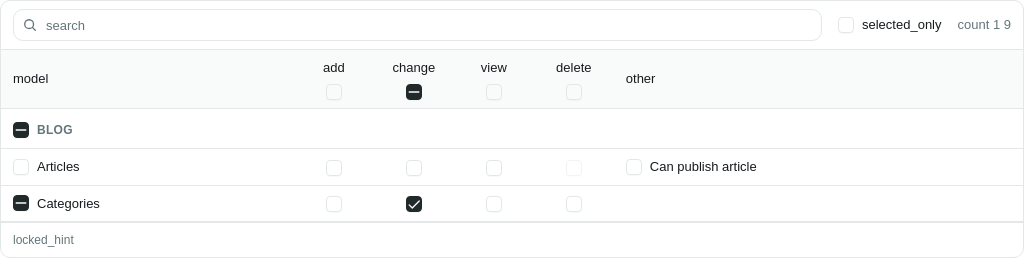
PermissionMatrixWidget › shows only the selected rows
This screenshot has width=1024, height=275.
Check: the text "Articles" is shown, box [37,157,80,176]
Click the text "selected_only" at (890,25), box [838,15,942,35]
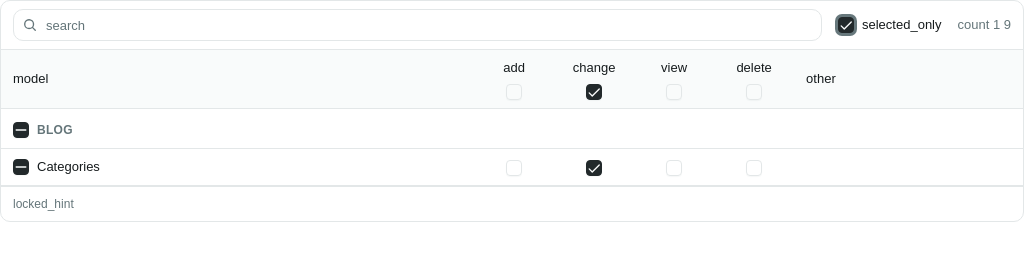
Check: the text "Categories" is shown, box [37,157,100,176]
Check: the text "Articles" is gone
